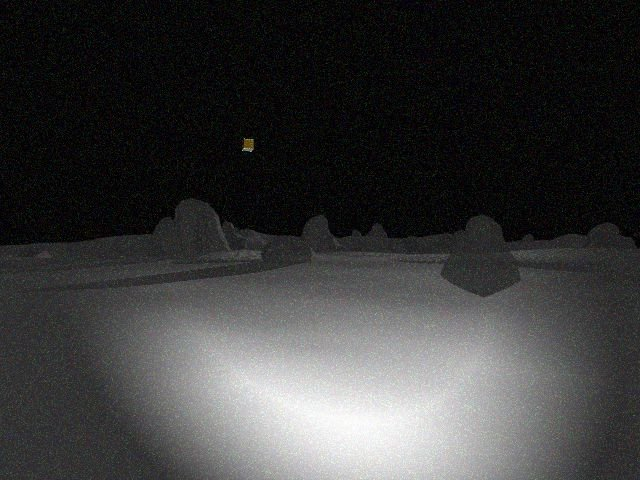cubesat: (241, 136, 256, 154)
